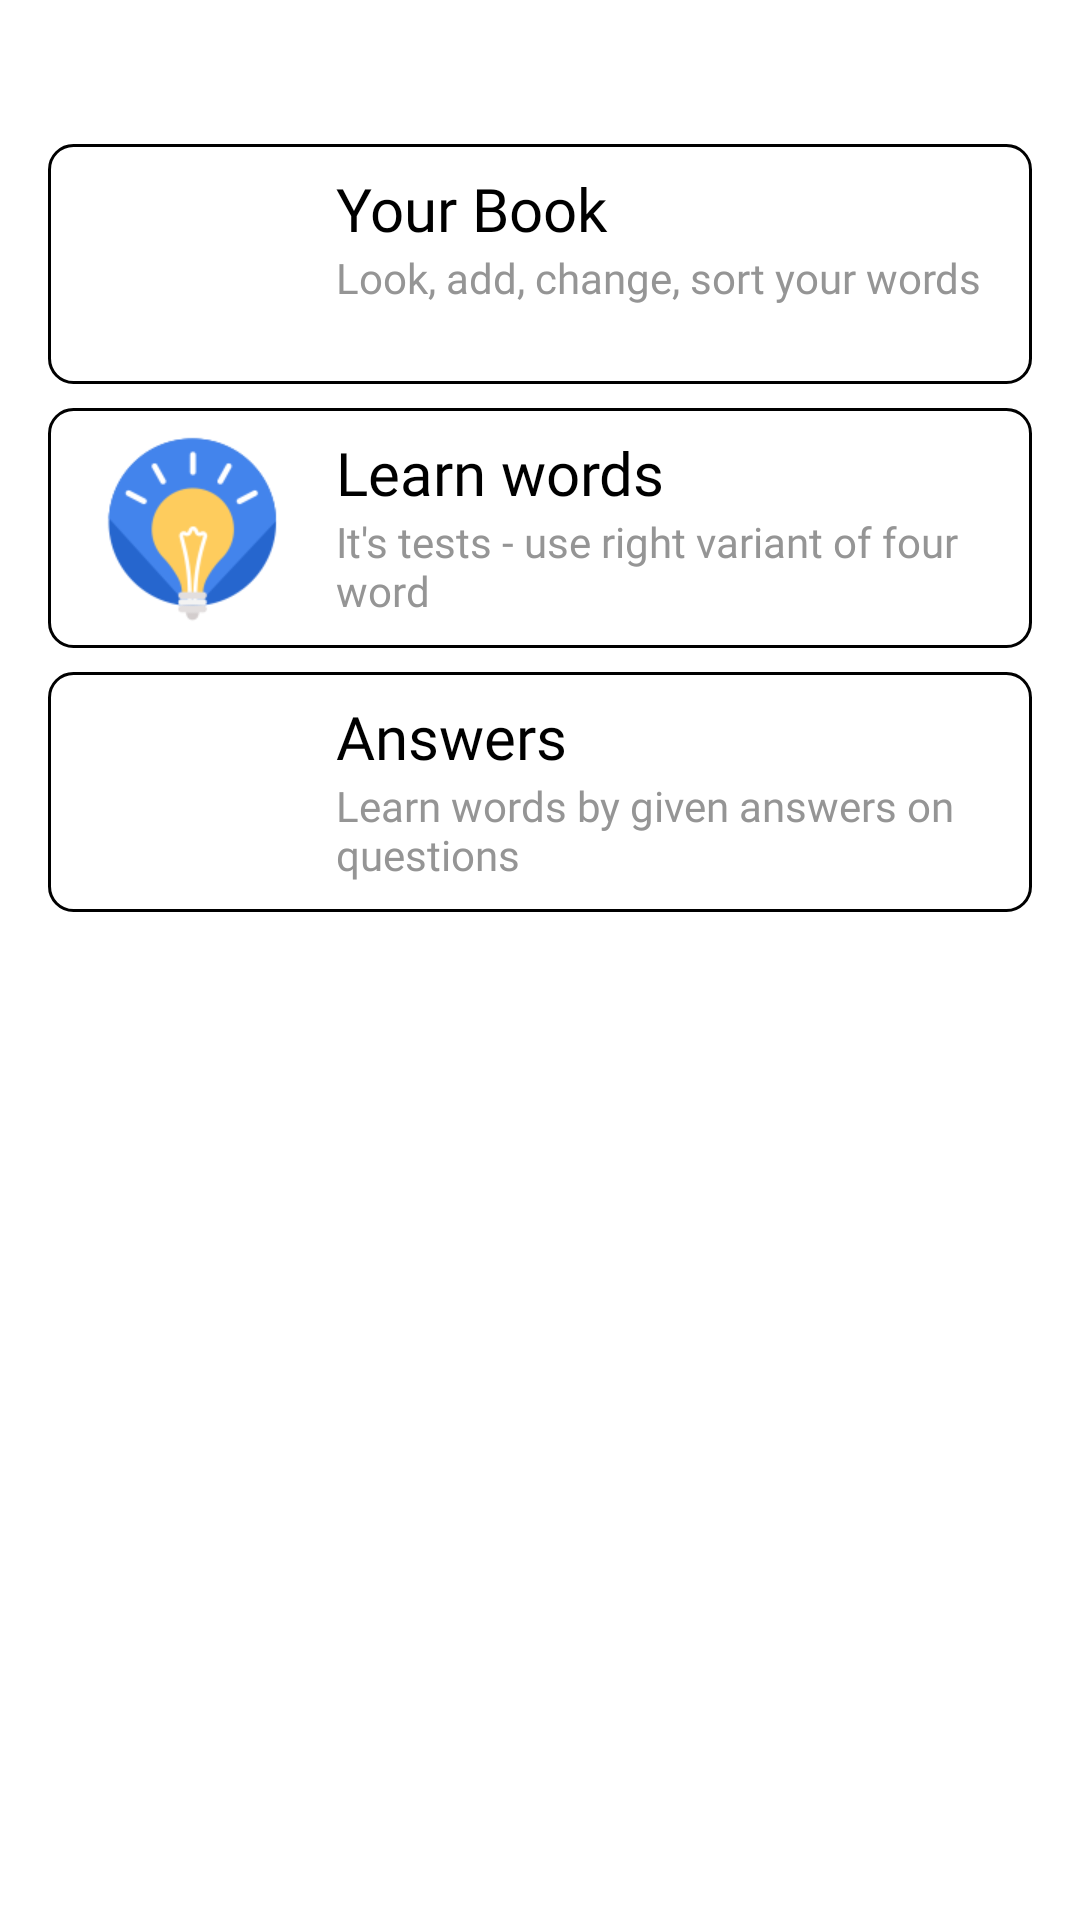

Icon click points for this 1080*1920 phone screenshot, format (x,y):
idea: (192,528)
